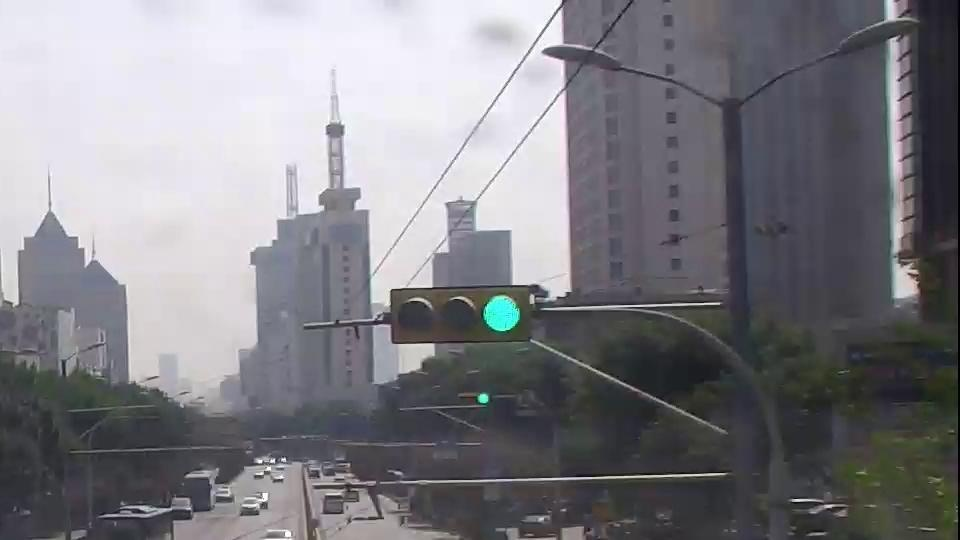green: (480, 293, 521, 331), (476, 393, 492, 404)
